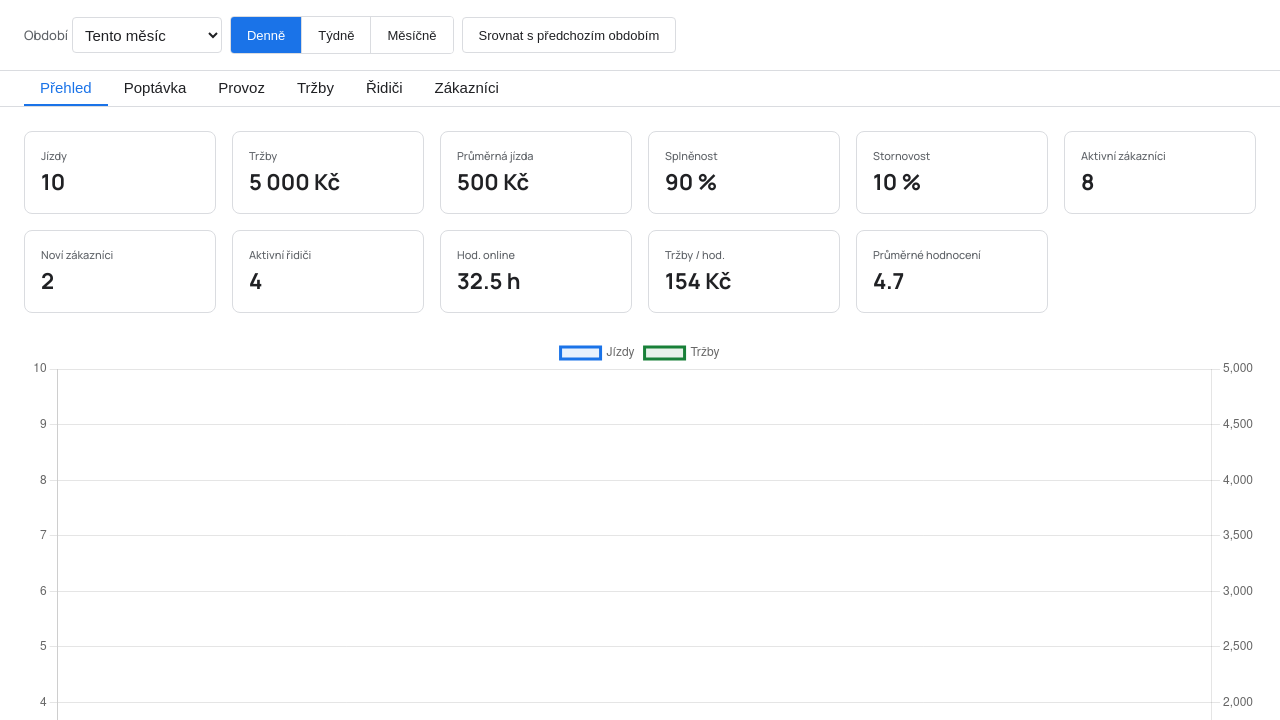
Scenario: AnalyticsPage › shows the Revenue tab when clicking Tržby
The width and height of the screenshot is (1280, 720).
Click the tab "Tržby" at coordinates (315, 88), box [281,71,350,106]
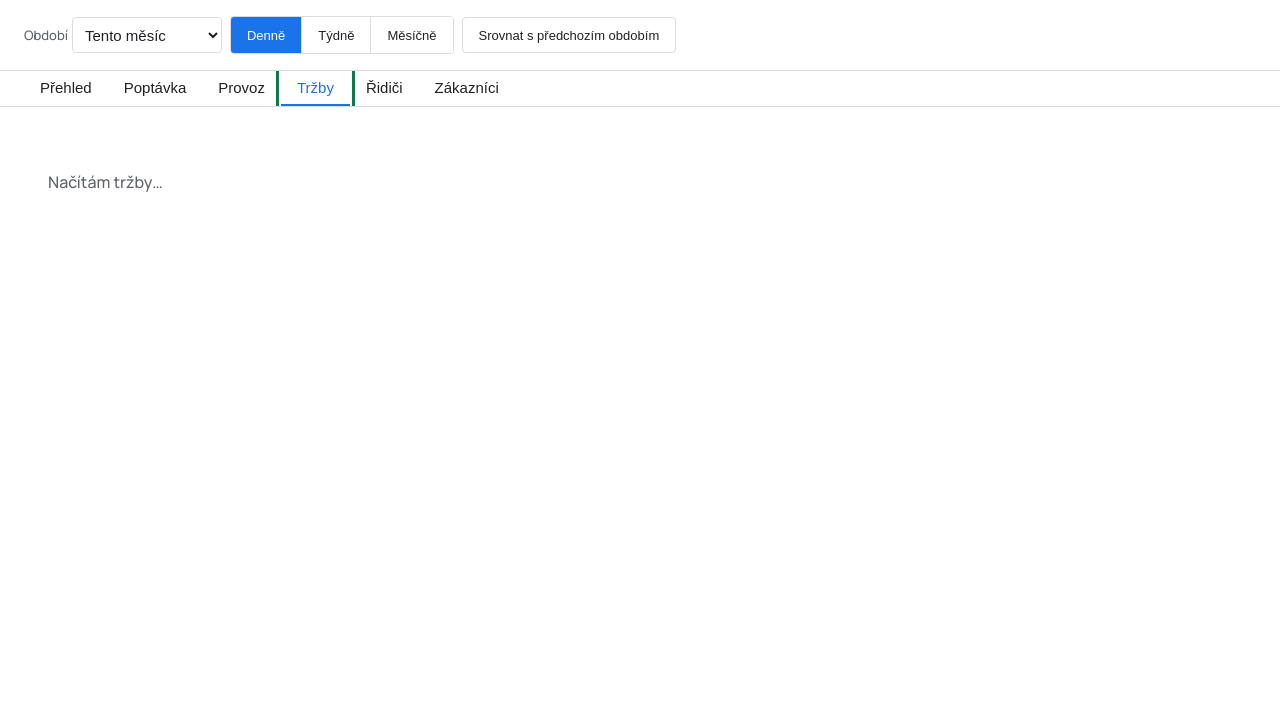
Expected: the text "Načítám tržby…" is shown, [48,171,163,193]
